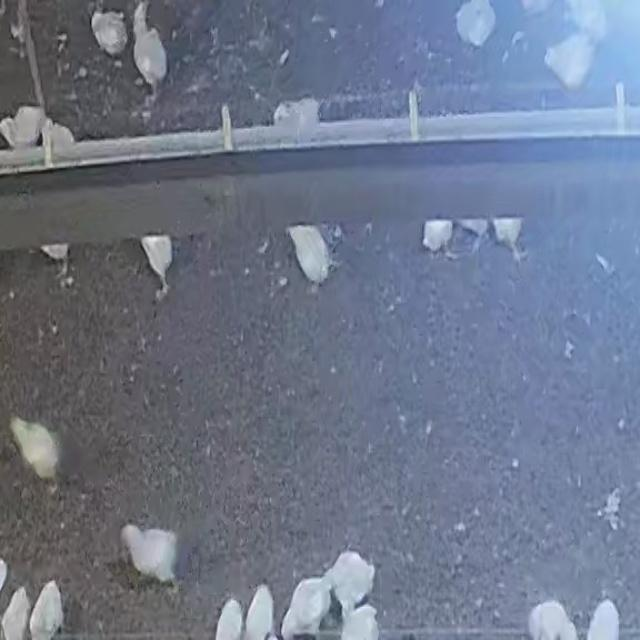chicken: (4, 411, 93, 487), (274, 221, 344, 287), (118, 521, 178, 593), (131, 1, 168, 99), (536, 33, 597, 90), (322, 550, 376, 614), (280, 576, 326, 640), (0, 102, 54, 151), (139, 232, 177, 296), (13, 240, 70, 282), (493, 215, 535, 267), (528, 599, 580, 640), (29, 580, 64, 638), (454, 0, 496, 47), (90, 6, 129, 56), (333, 604, 381, 640), (1, 586, 32, 640), (587, 596, 624, 640), (244, 581, 270, 640), (214, 595, 240, 640), (422, 219, 453, 253)
